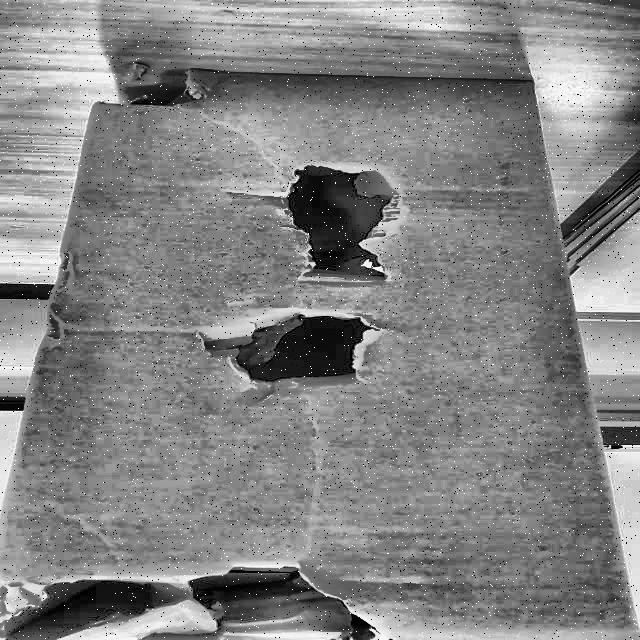box: (1, 53, 640, 640)
hole: (0, 555, 404, 640), (180, 299, 391, 391), (276, 156, 406, 290), (92, 67, 232, 115)
